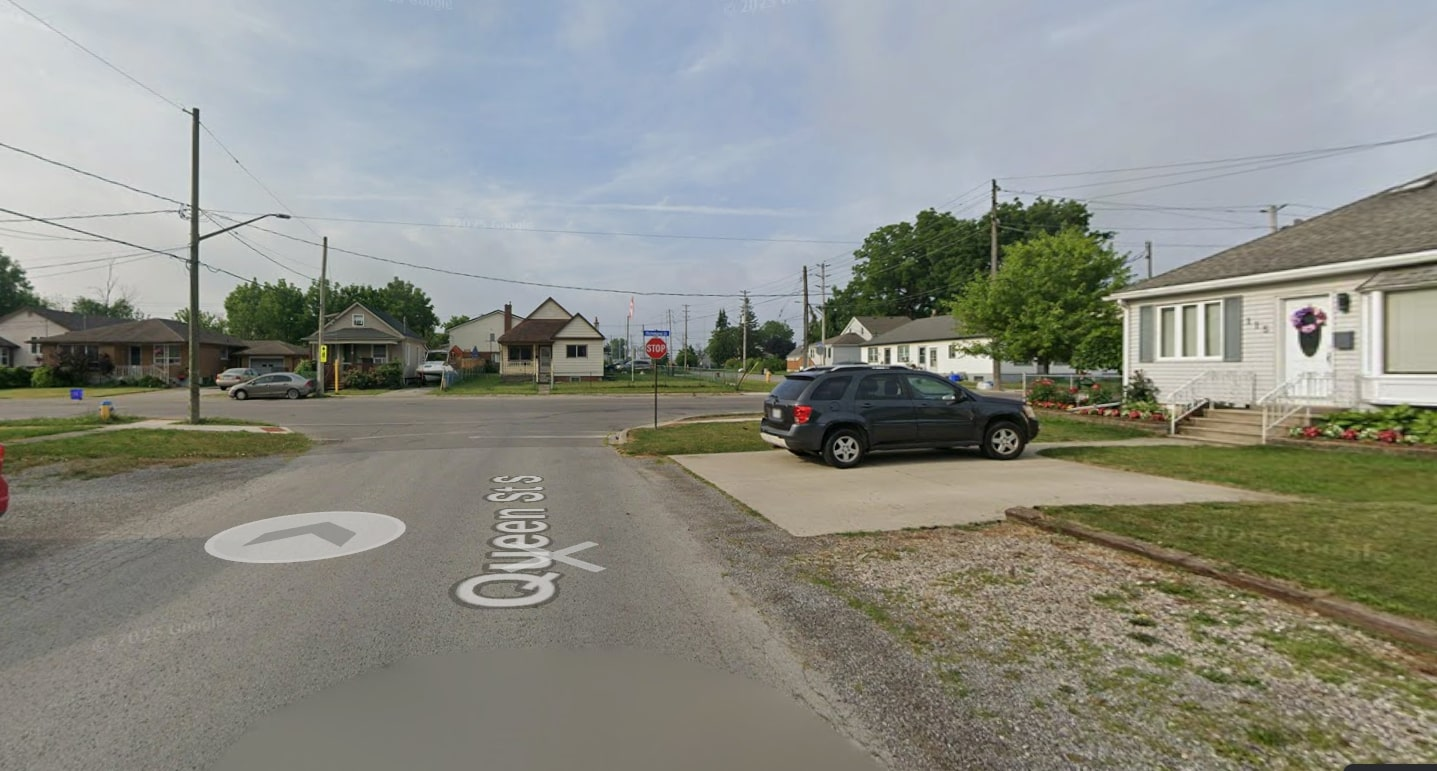cracks: (665, 563, 740, 669), (322, 438, 614, 458)
